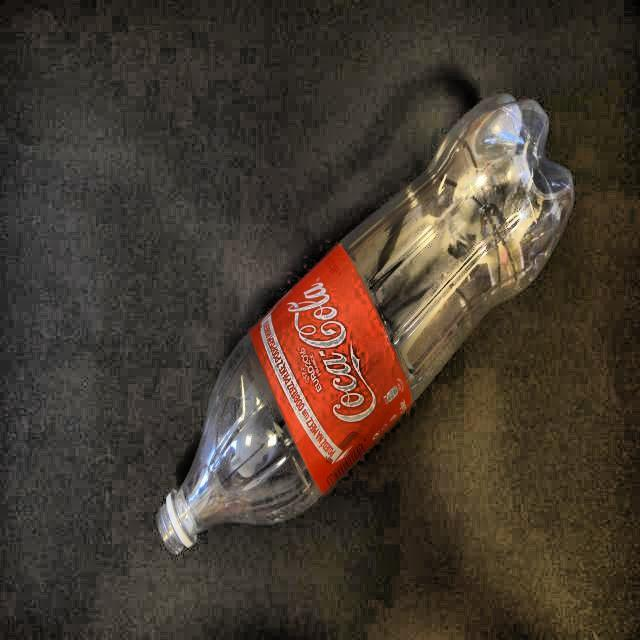plastic bottle: (158, 96, 574, 554)
